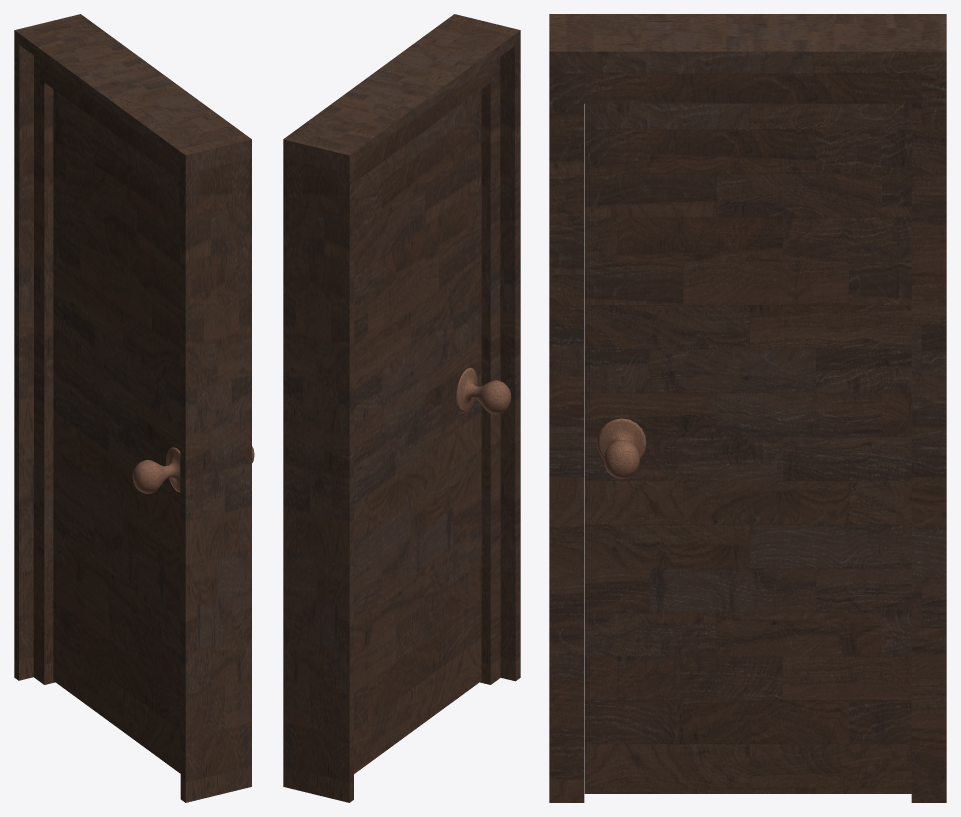
Rendered from door_GWJ99.glb.
3 views of the same model, side by side, from view 1: azimuth 30°, elevation 25°; view 2: azimuth 150°, elevation 25°; view 3: azimuth 270°, elevation 25° (orthographic). The views are drawn at different scales.
Parts seen in each view (by area): view 1: doorFrame, door, doorKnob; view 2: doorFrame, door, doorKnob; view 3: door, doorFrame, doorKnob.001.
Part boxes in pixels (x1,y1,x2,y2): doorFrame: [14, 14, 251, 802]; door: [53, 89, 180, 773]; doorKnob: [132, 447, 180, 493]; doorFrame: [283, 14, 520, 802]; door: [354, 89, 481, 773]; doorKnob: [456, 367, 511, 414]; door: [584, 103, 911, 793]; doorFrame: [549, 14, 946, 802]; doorKnob.001: [597, 418, 646, 478].
Size of the model in its own units: 0.3764 by 2 by 0.959.
1 material, 1 textured.
